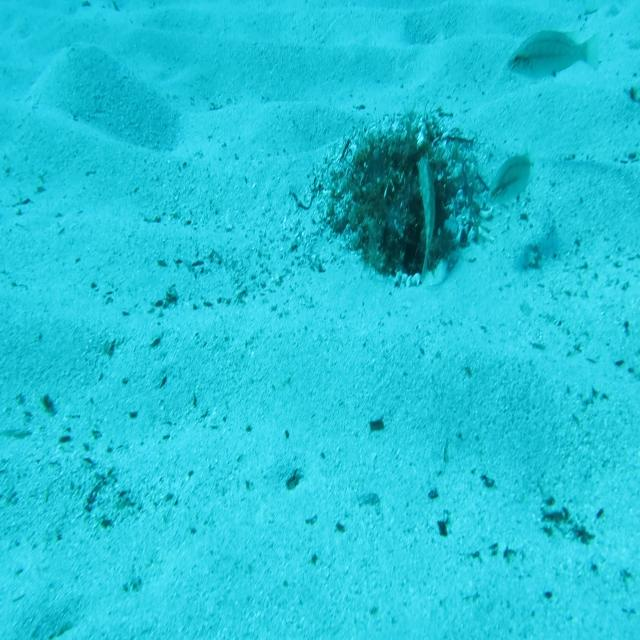FAN: (415, 151, 438, 285)
core_nest: (390, 147, 439, 188)
female: (505, 27, 601, 82), (488, 153, 532, 211)
nest: (310, 106, 497, 288)
vegetation: (284, 464, 302, 494), (366, 416, 386, 432)
